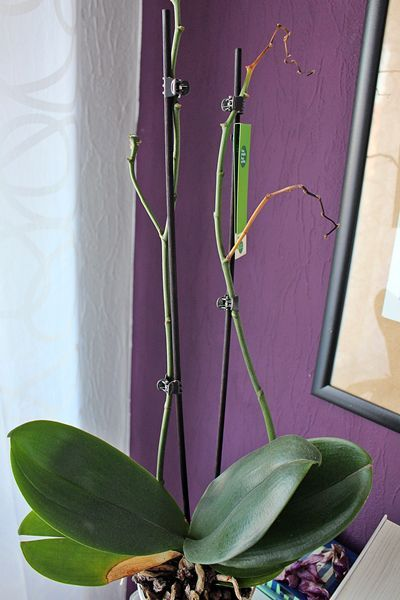orchid branch: (208, 20, 350, 438), (119, 2, 198, 457)
